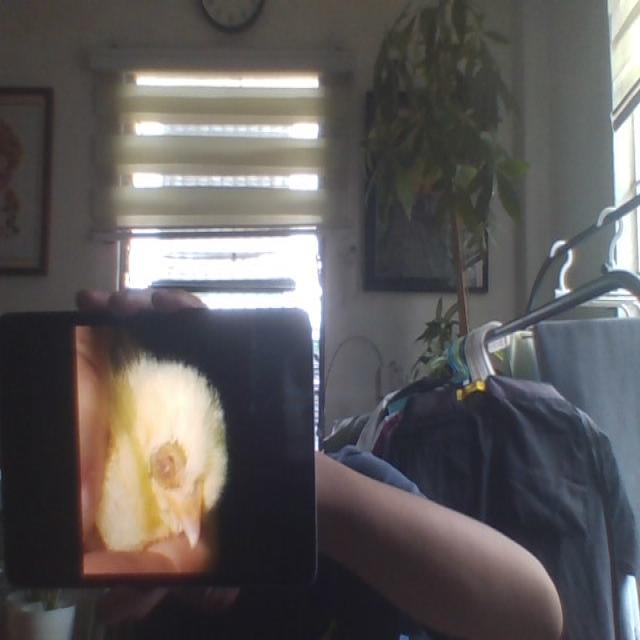Sick: (91, 359, 226, 554)
